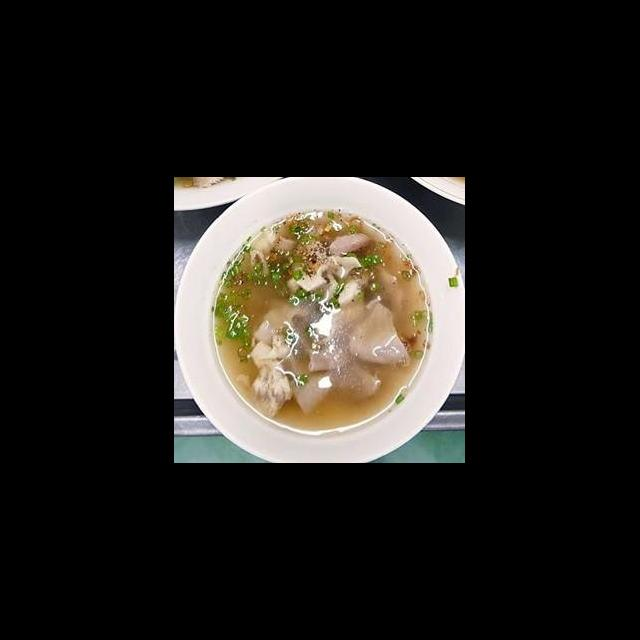thit heo: (344, 297, 414, 369)
